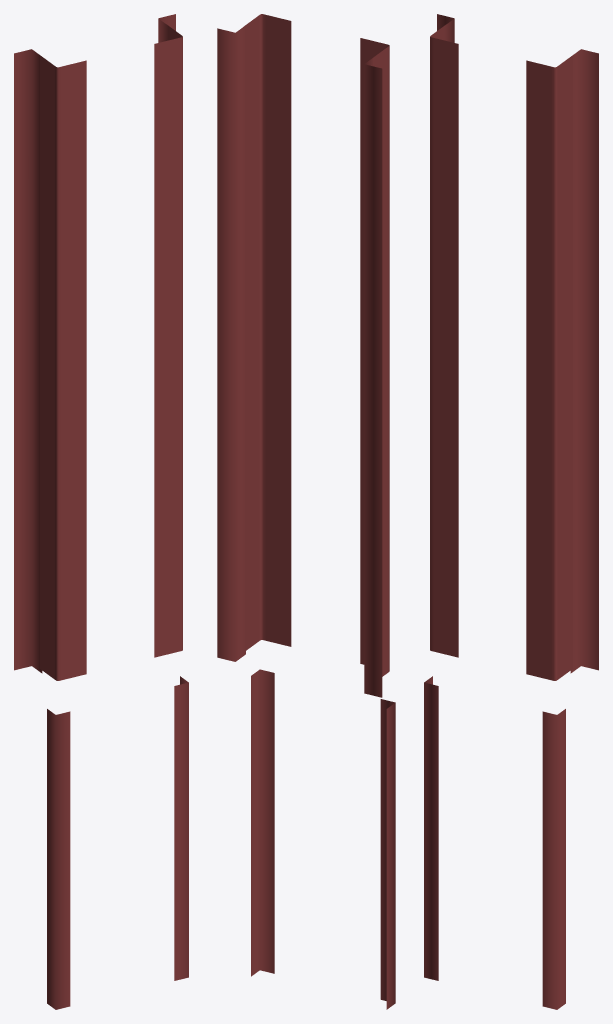
The model's file is Decal_wallIn_A_columnhalf_small.FBX.
3 views of the same model, side by side, from view 1: azimuth 30°, elevation 25°; view 2: azimuth 150°, elevation 25°; view 3: azimuth 330°, elevation 25° (orthographic).
Parts seen in each view (by area): view 1: Decal_wallIn_A_columnhalf_small; view 2: Decal_wallIn_A_columnhalf_small; view 3: Decal_wallIn_A_columnhalf_small.
Boxes of the visible parts, <box> form: Decal_wallIn_A_columnhalf_small: <box>14,14,188,1009</box>; Decal_wallIn_A_columnhalf_small: <box>217,14,395,1009</box>; Decal_wallIn_A_columnhalf_small: <box>424,14,598,1009</box>.
Size of the model in its own units: 45.54 by 253 by 13.32.
